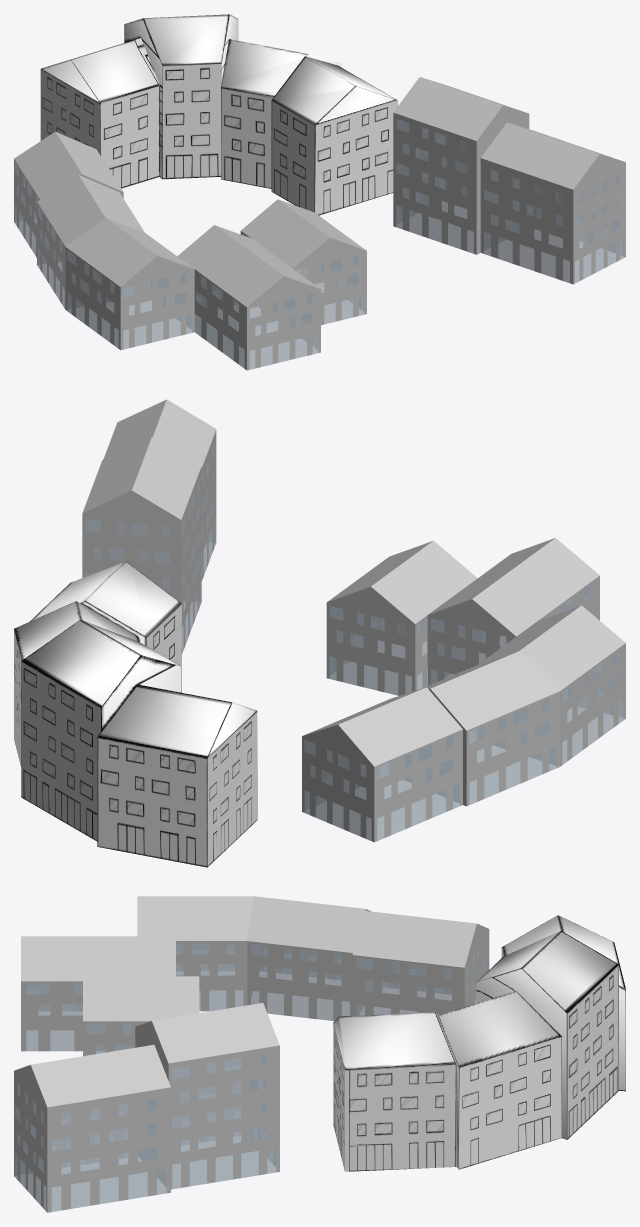
Rendered from sketchyBuilding.fbx.
3 renders of one model, top to bottom at view 1: azimuth 30°, elevation 25°; view 2: azimuth 150°, elevation 25°; view 3: azimuth 270°, elevation 25°, orthographic. The views are drawn at different scales.
Visible parts, largest first — view 1: CityEngineMaterial_1_m, CityEngineMaterial_3_m, CityEngineMaterial_4_m; view 2: CityEngineMaterial_3_m, CityEngineMaterial_1_m, CityEngineMaterial_4_m; view 3: CityEngineMaterial_1_m, CityEngineMaterial_3_m, CityEngineMaterial_4_m.
Part boxes in pixels (x1,y1,x2,y2): CityEngineMaterial_1_m: (40,14,397,215); CityEngineMaterial_3_m: (14,131,366,370); CityEngineMaterial_4_m: (393,77,625,284); CityEngineMaterial_3_m: (302,538,625,842); CityEngineMaterial_1_m: (14,561,257,867); CityEngineMaterial_4_m: (82,399,216,653); CityEngineMaterial_1_m: (333,915,625,1171); CityEngineMaterial_3_m: (21,896,489,1056); CityEngineMaterial_4_m: (14,1003,279,1212).
Size of the model in its own units: 7697 by 2296 by 7895.
